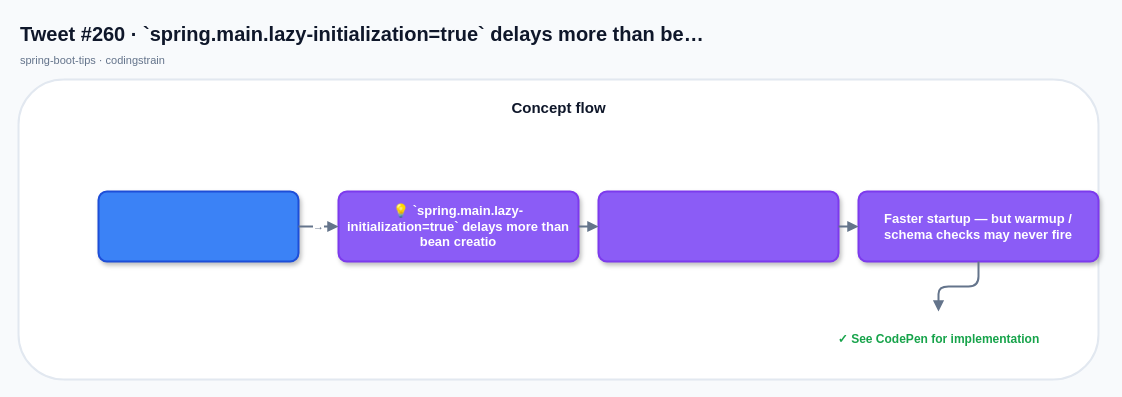
Some shapes in this 1122 by 397 pixel diagram are drawn without their labels. Each missing label, with the centre of its shape:
Beans (and `@PostConstruct`) run only on first use: point (719, 227)
Problem / context: point (199, 227)
